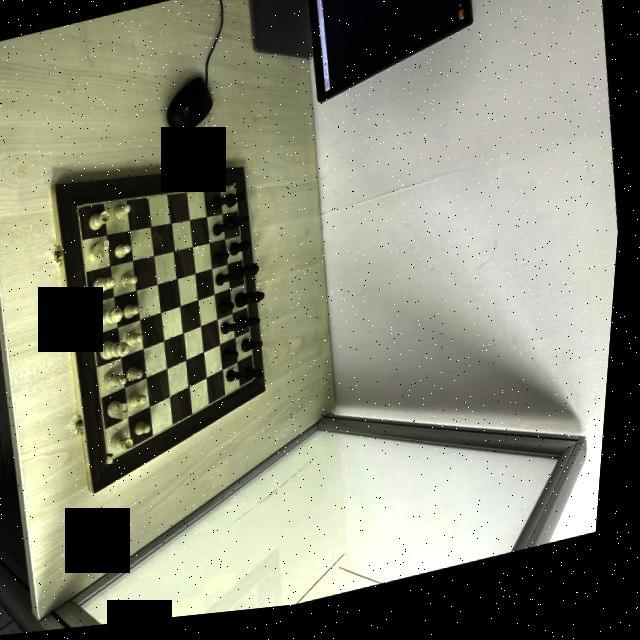chess-table-corners: (75, 202, 87, 216), (110, 456, 120, 468), (234, 188, 240, 194), (258, 384, 262, 389)
